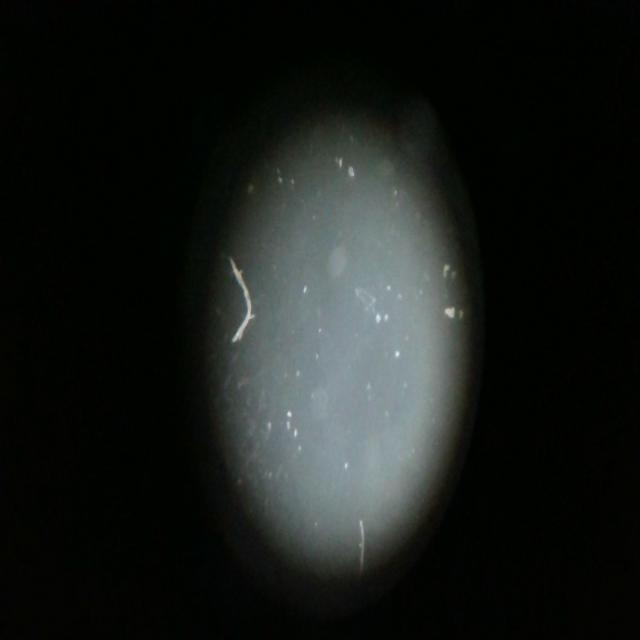psudo-nitzschia: (220, 252, 253, 347), (350, 508, 374, 572)
